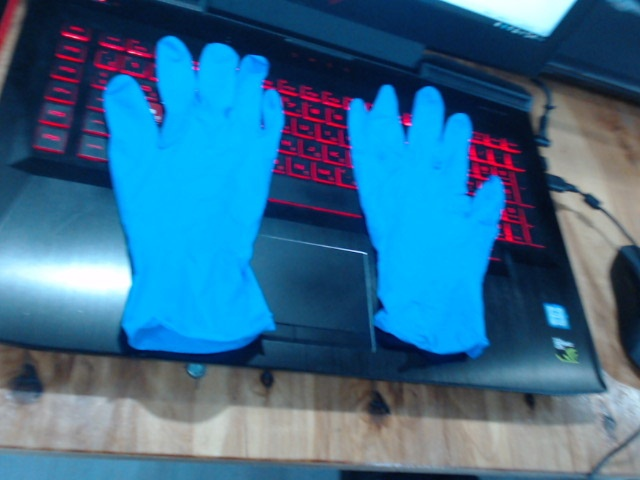medical_glove: (104, 34, 284, 351), (347, 83, 506, 358)
